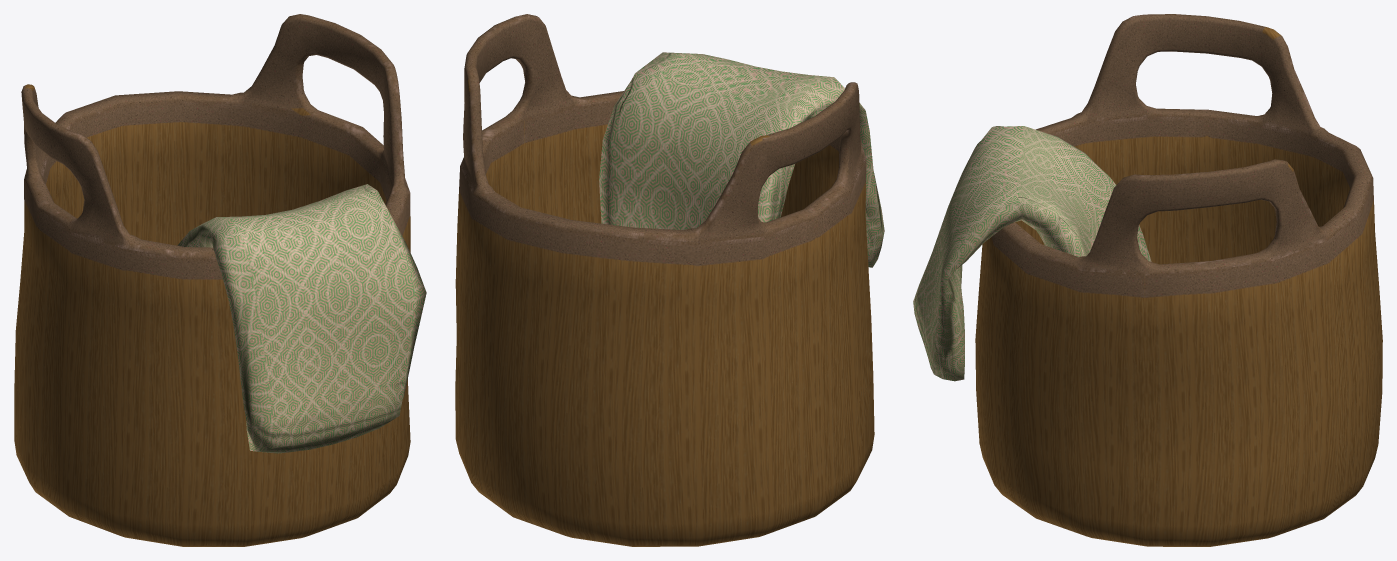
File: woven_basket_with_towel__game-ready_3d_model.glb
3 renders of one model, left to right at view 1: azimuth 30°, elevation 25°; view 2: azimuth 150°, elevation 25°; view 3: azimuth 270°, elevation 25°, orthographic. The views are drawn at different scales.
Parts seen in each view (by area): view 1: Basket, Blanket02_15 - Default_0; view 2: Basket, Blanket02_15 - Default_0; view 3: Basket, Blanket02_15 - Default_0.
Part boxes in pixels (x1,y1,x2,y2): Basket: [14, 14, 410, 546]; Blanket02_15 - Default_0: [177, 184, 426, 453]; Basket: [455, 14, 874, 546]; Blanket02_15 - Default_0: [599, 52, 884, 267]; Basket: [975, 14, 1382, 546]; Blanket02_15 - Default_0: [913, 126, 1151, 381].
Bounding box in the file's own units: 0.3924 × 0.4375 × 0.4828.
Materials: 2 (2 with a texture image).
